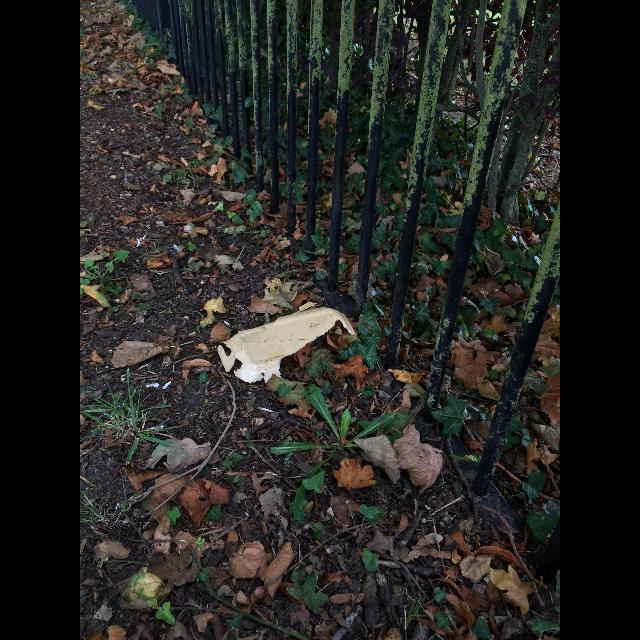Plastic: (218, 302, 356, 384)
